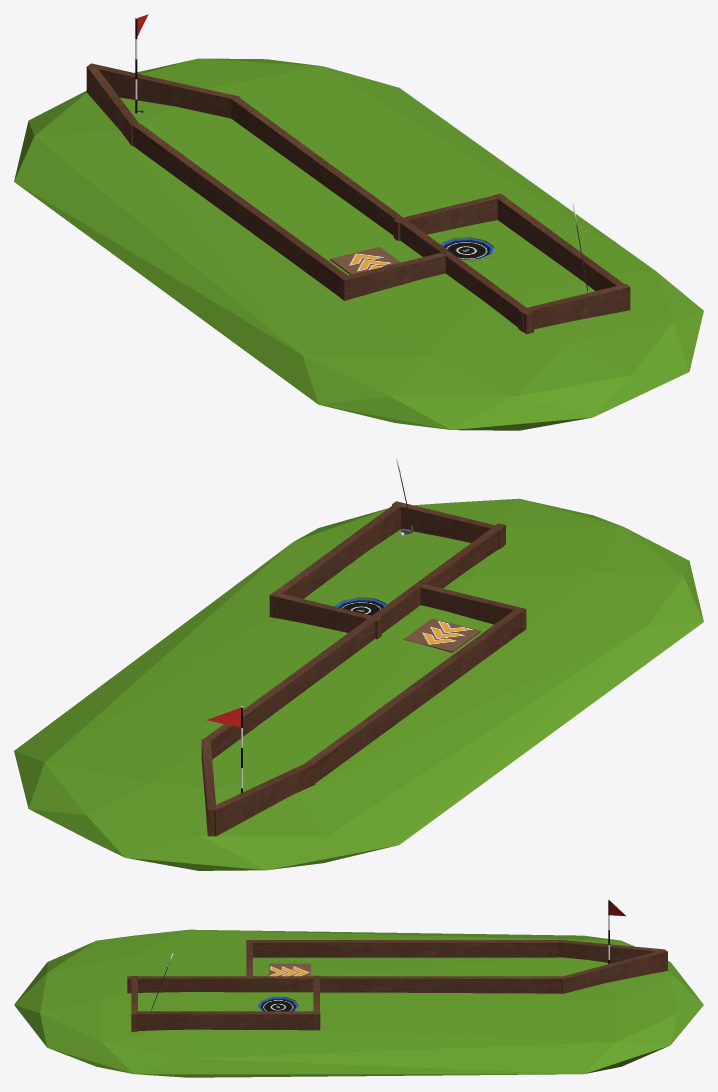
File: level_5.glb
3 views of the same model, one above another, from view 1: azimuth 30°, elevation 25°; view 2: azimuth 150°, elevation 25°; view 3: azimuth 270°, elevation 25° (orthographic). The views are drawn at different scales.
Visible parts, largest first — view 1: grass, wall.001, wall.002, wall.005, wall.007, wall, wall.003, wall.006, wall.004, speed, trampoline.2; view 2: grass, wall.001, wall.002, wall.007, wall.004, wall, wall.006, wall.003, speed, wall.005; view 3: grass, wall.001, wall.002, wall.007, wall.005, wall.004, speed, trampoline.2, wall, wall.006, trampoline.
Part boxes in pixels (x1=…): grass: x1=14, y1=58, x2=703, y2=430; wall.001: x1=231, y1=97, x2=533, y2=334; wall.002: x1=133, y1=124, x2=350, y2=296; wall.005: x1=87, y1=63, x2=239, y2=118; wall.007: x1=493, y1=193, x2=623, y2=290; wall: x1=518, y1=284, x2=630, y2=331; wall.003: x1=340, y1=251, x2=451, y2=300; wall.006: x1=393, y1=194, x2=504, y2=240; wall.004: x1=86, y1=65, x2=139, y2=145; speed: x1=330, y1=247, x2=400, y2=274; trampoline.2: x1=444, y1=240, x2=490, y2=259; grass: x1=14, y1=498, x2=703, y2=870; wall.001: x1=202, y1=523, x2=505, y2=759; wall.002: x1=306, y1=608, x2=521, y2=782; wall.007: x1=269, y1=503, x2=400, y2=618; wall.004: x1=213, y1=762, x2=315, y2=836; wall: x1=392, y1=501, x2=503, y2=549; wall.006: x1=270, y1=592, x2=381, y2=639; wall.003: x1=415, y1=583, x2=526, y2=632; speed: x1=403, y1=618, x2=480, y2=652; wall.005: x1=201, y1=739, x2=216, y2=836; grass: x1=14, y1=929, x2=703, y2=1077; wall.001: x1=127, y1=976, x2=563, y2=993; wall.002: x1=248, y1=940, x2=558, y2=957; wall.007: x1=134, y1=1011, x2=320, y2=1030; wall.005: x1=560, y1=949, x2=667, y2=993; wall.004: x1=558, y1=939, x2=663, y2=963; speed: x1=269, y1=963, x2=310, y2=976; trampoline.2: x1=260, y1=999, x2=295, y2=1011; wall: x1=131, y1=976, x2=137, y2=1031; wall.006: x1=313, y1=975, x2=319, y2=1030; trampoline: x1=256, y1=996, x2=299, y2=1011.
Bounding box in the file's own units: 100 × 35.99 × 211.
Materials: 17 (3 with a texture image).
